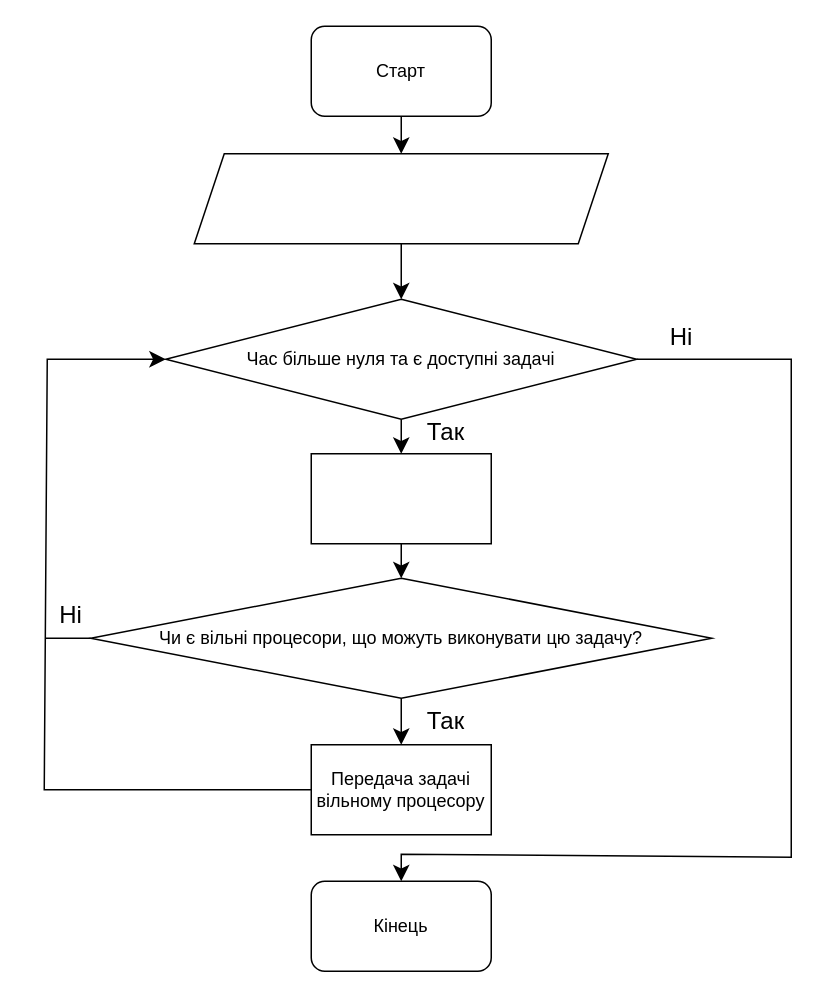
This 833x998 diagram has some shape labels left out. The shapes that lost their labels are listed below. From the top down, each one's centre as x and y in pixels, then its label:
pixel 400 198: Отримати списки процесорів і задач та час
pixel 400 498: Взяття першої не розподіленої задачі
